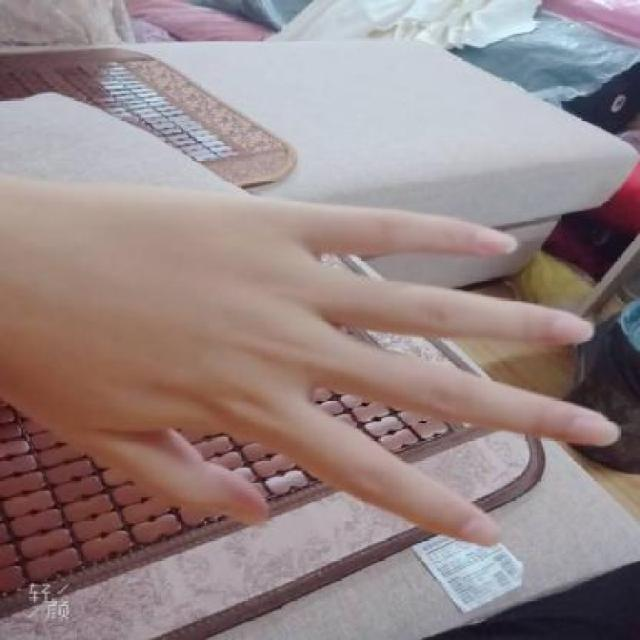hand_noglove: (0, 172, 620, 546)
